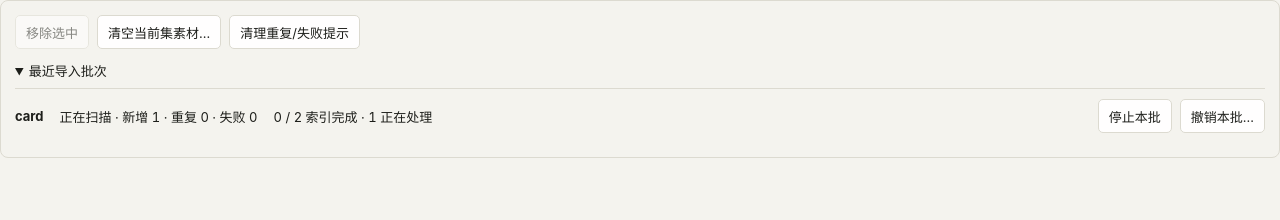
stops a scanning batch and preserves its already imported clips
Click the button "停止本批" at (1135, 116), box [1098,99,1172,133]
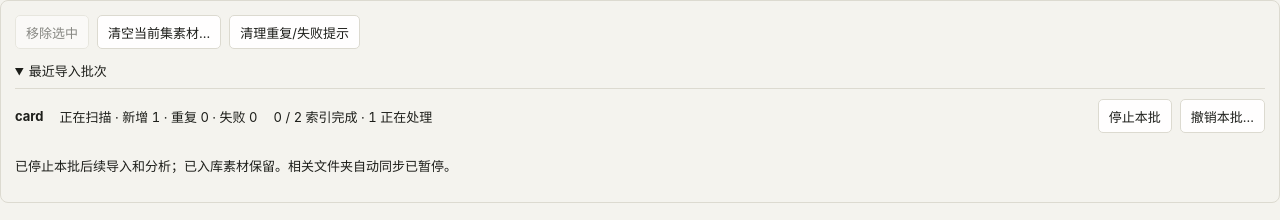
Check: the text "已入库素材保留" is shown, box [15,158,457,174]
